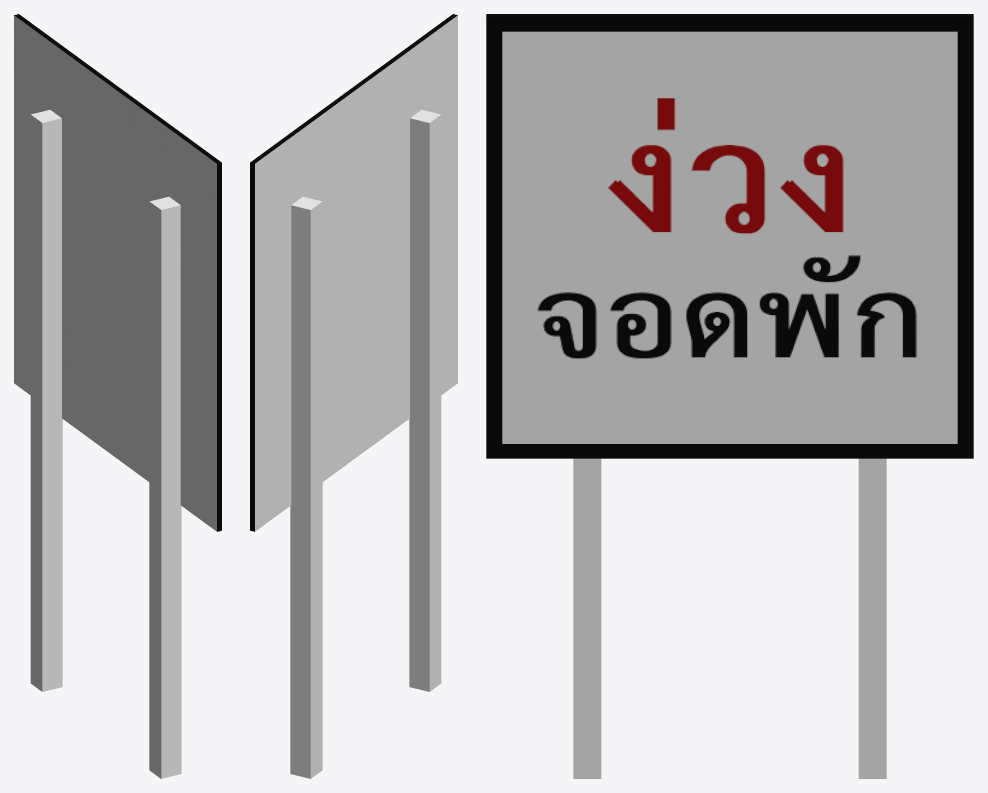
Rendered from warningSleep.glb.
The picture shows the model from 3 angles, left to right: view 1: azimuth 30°, elevation 25°; view 2: azimuth 150°, elevation 25°; view 3: azimuth 270°, elevation 25°; orthographic projection. The views are drawn at different scales.
Visible parts, largest first — view 1: Plane, Cube; view 2: Plane, Cube; view 3: Plane, Cube.
Boxes of the visible parts, x1,y1,x2,y2 form: Plane: [14, 14, 221, 531]; Cube: [30, 110, 181, 778]; Plane: [250, 14, 457, 531]; Cube: [290, 110, 441, 778]; Plane: [486, 14, 973, 458]; Cube: [573, 458, 886, 778].
Size of the model in its own units: 0.534 by 13.24 by 7.65.
2 materials, 1 textured.
